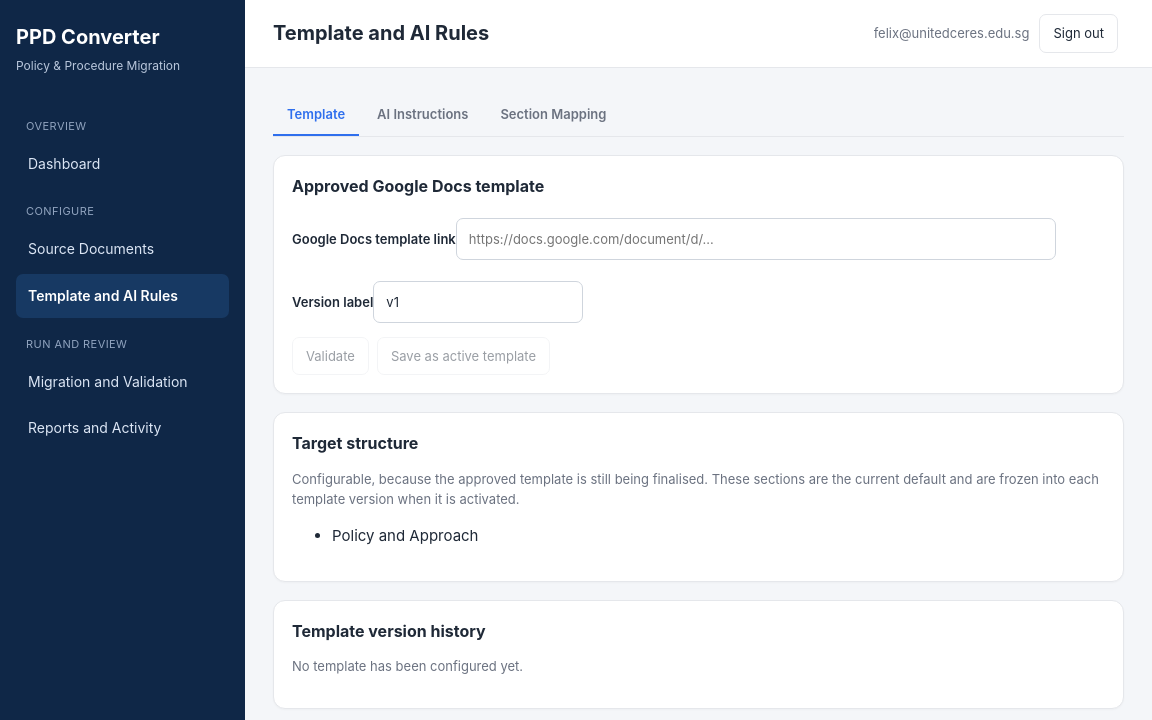
Scenario: Template and AI Rules › shows the mapping tab blocked when no approved mapping exists
This screenshot has width=1152, height=720.
Click the tab "Section Mapping": (553, 115) [486, 94, 620, 136]
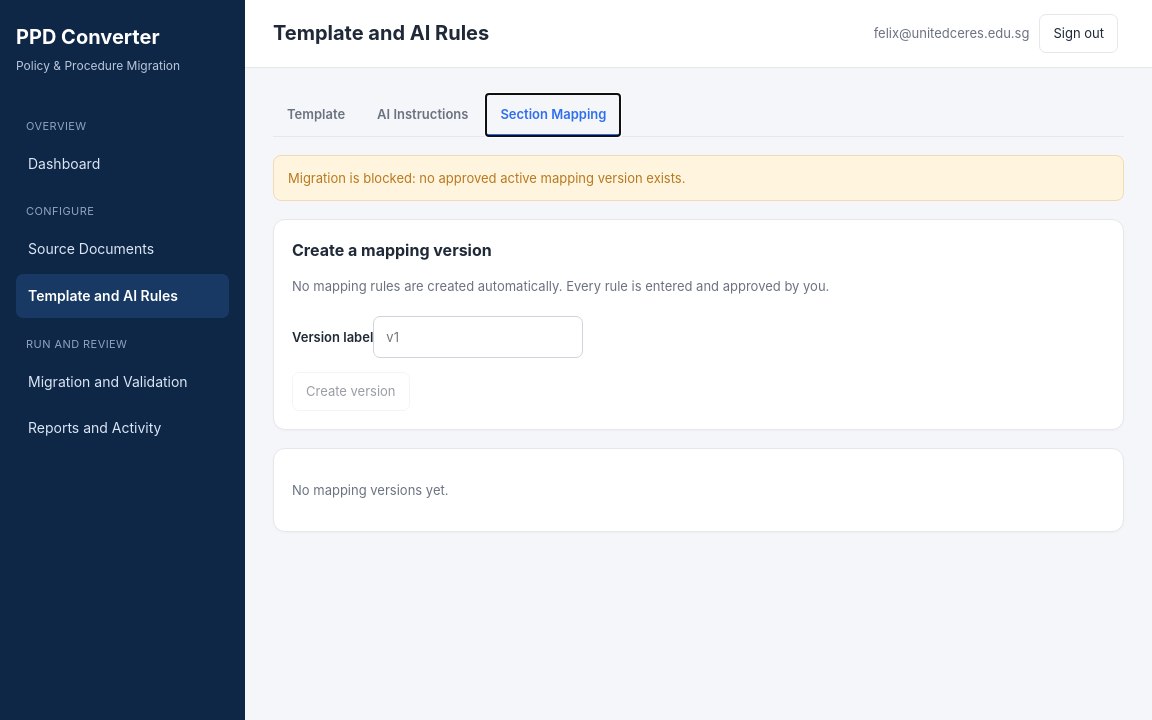
Expected: the text "Migration is blocked: no approved active mapping version exists." is shown, [273, 155, 1124, 201]
